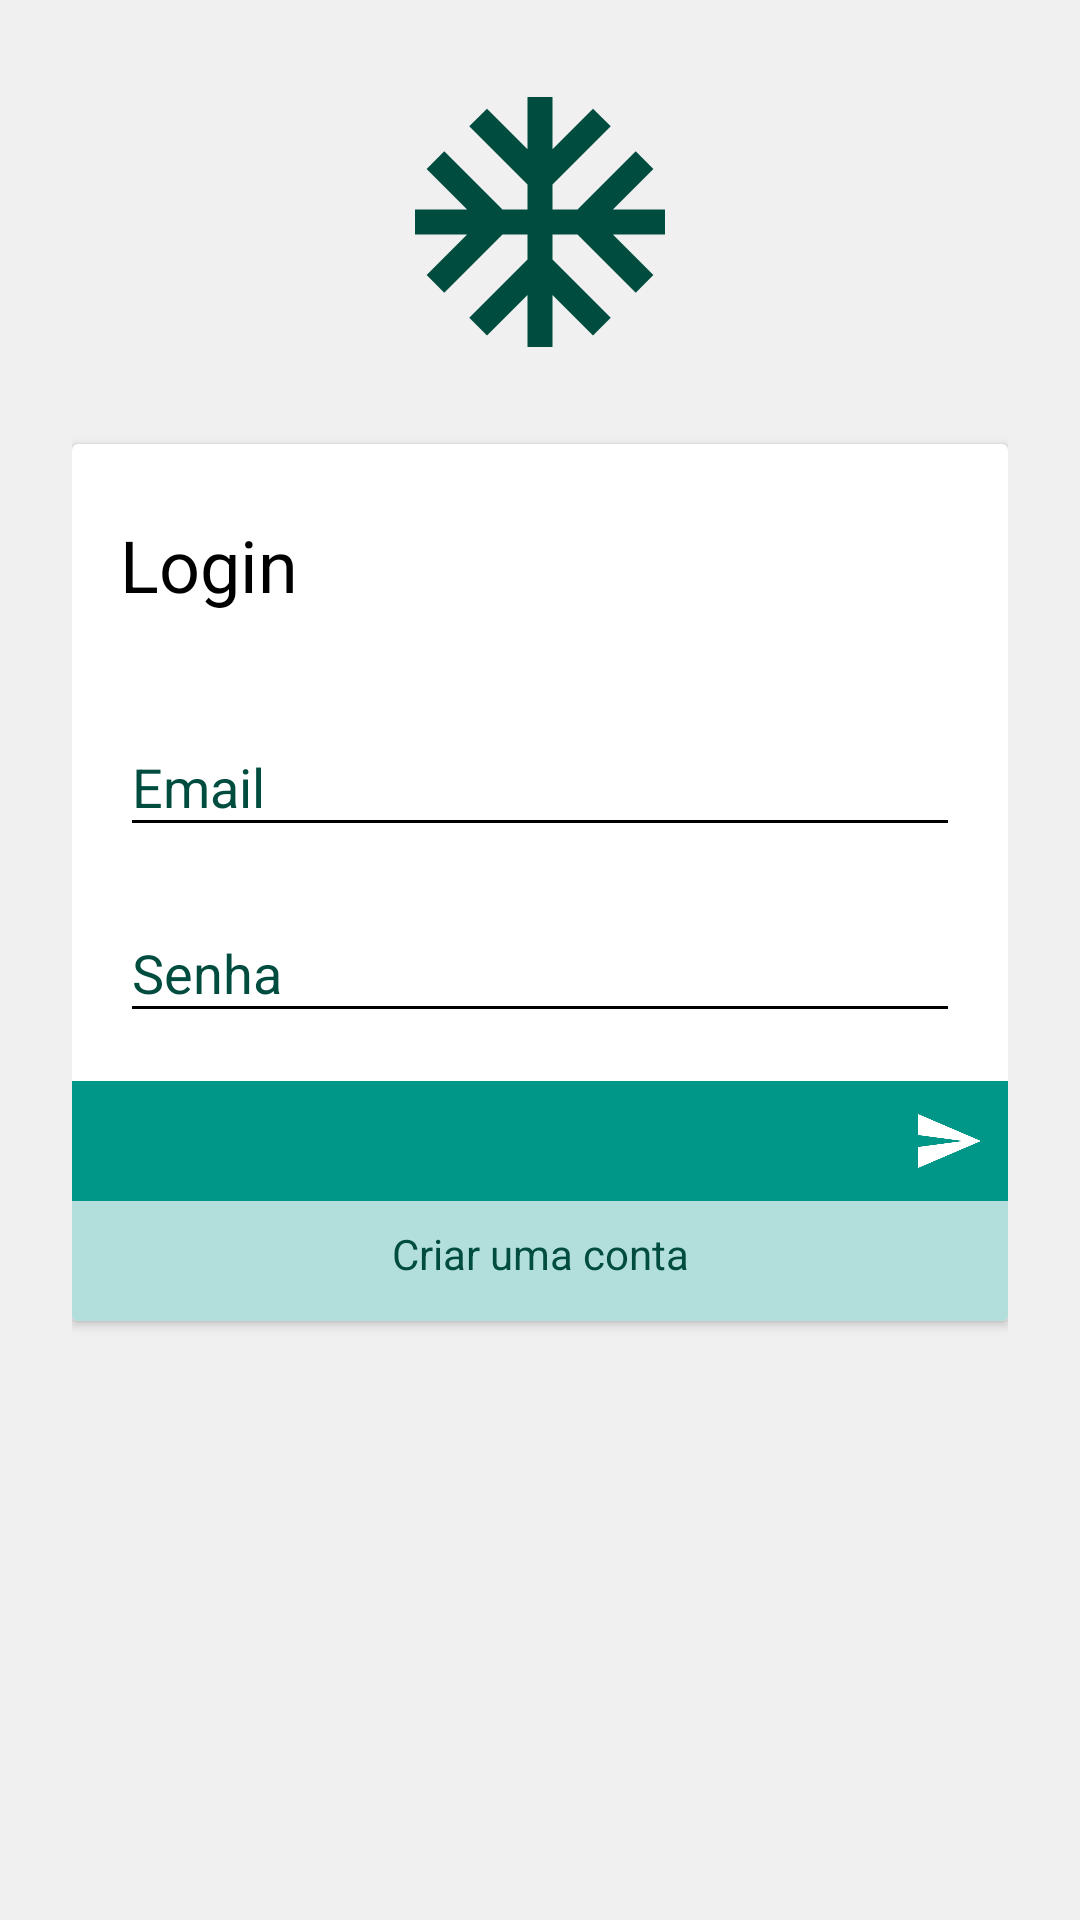

Locate icon controls on the screen. Image size 1080x1920, boxes as box(x1, y1, x2, y2).
Entrar: box(918, 1114, 980, 1168)
